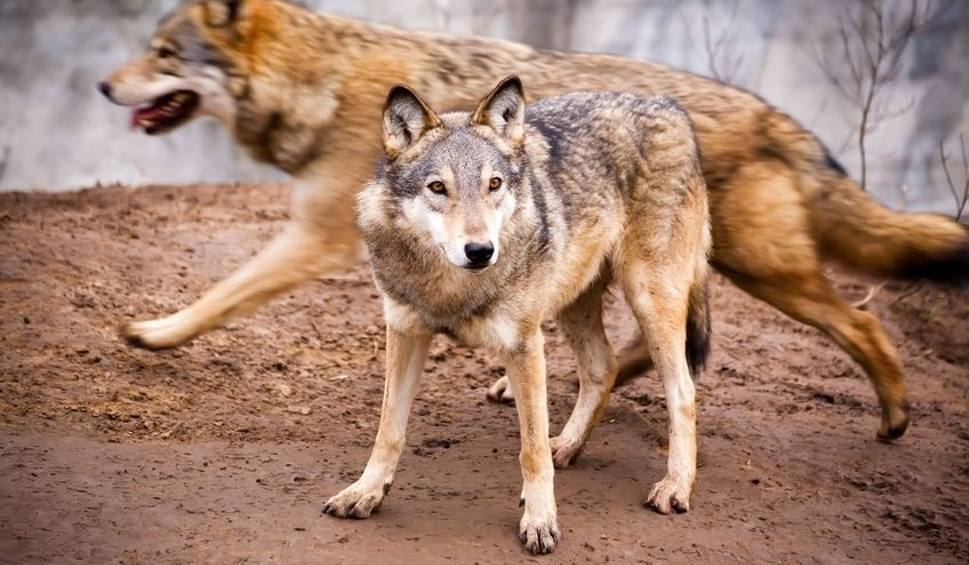wolf: (95, 2, 961, 442), (303, 75, 732, 542)
